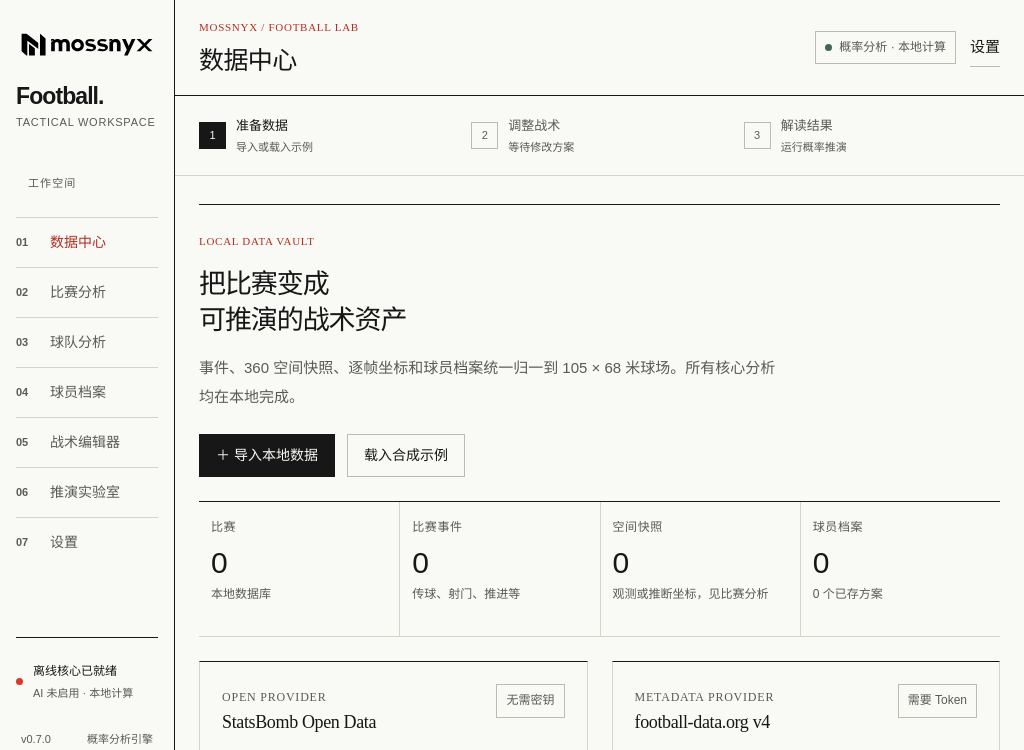
Test case: 应用工作流回归 › StrictMode 下单次职责修改只产生一次撤销记录，并可重做
Click the button "05 战术编辑器" at {"x": 87, "y": 442}, box [16,417,158,467]
(page scrolled)
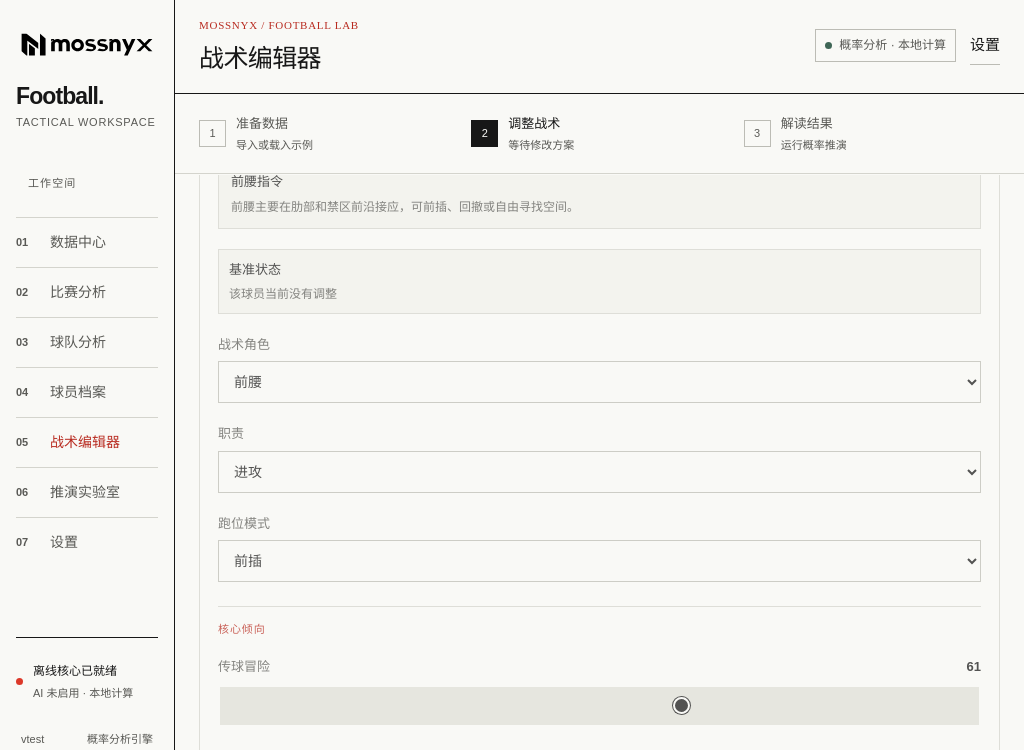
Result: the dropdown labelled "职责" shows "进攻"
Select "支援" in the dropdown labelled "职责" at {"x": 600, "y": 472}, box [218,450,981,492]
(page scrolled)
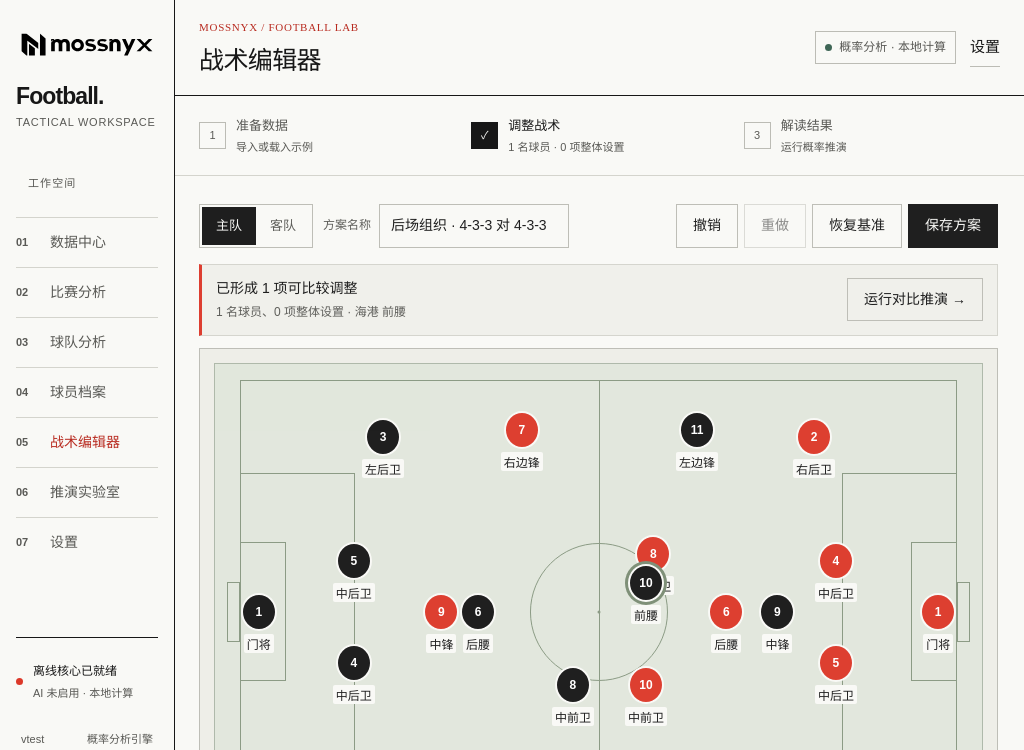
Click the button "撤销" at {"x": 707, "y": 226}, box [676,204,738,248]
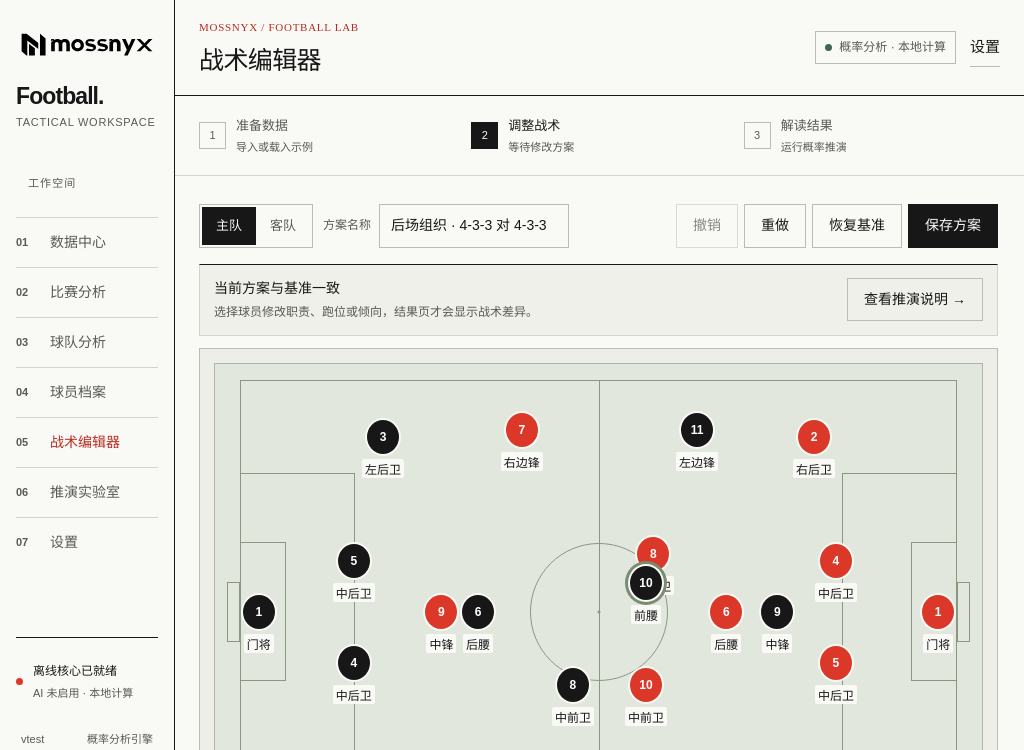
Result: the button "撤销" is disabled at [676,204,738,248]
Click the button "重做" at {"x": 775, "y": 226}, box [744,204,806,248]
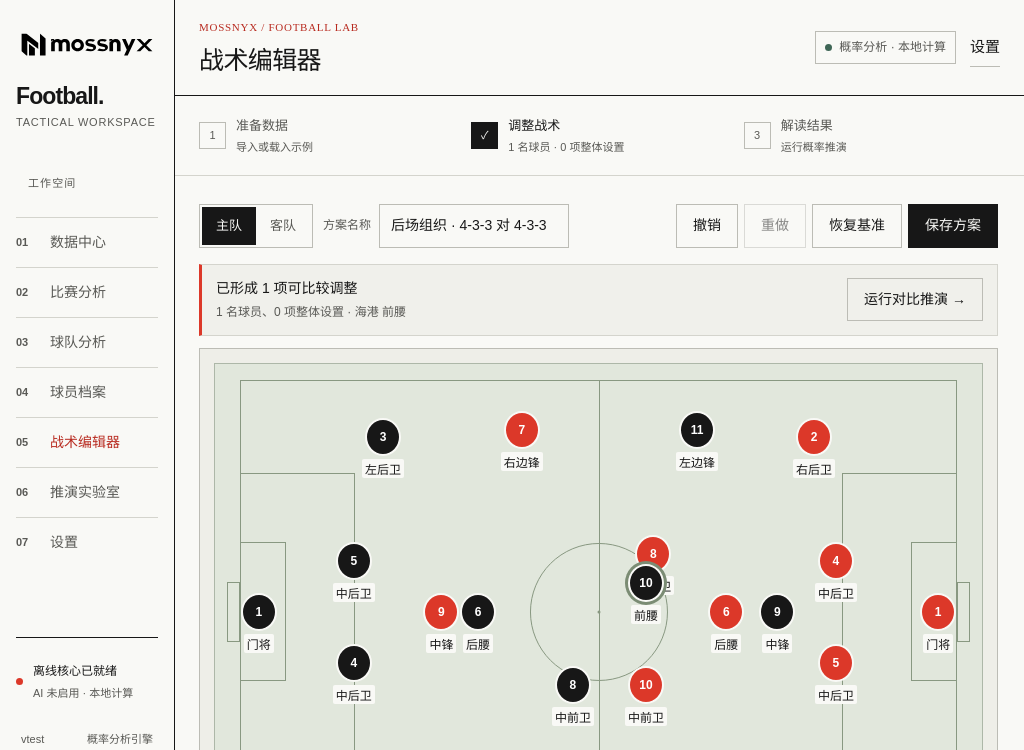
Result: the button "重做" is disabled at [744,204,806,248]
